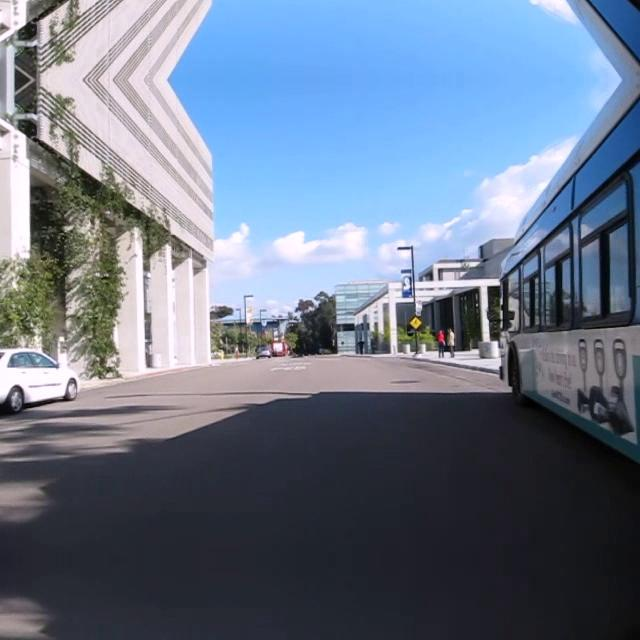pedestrianCrossing: (408, 316, 422, 328)
